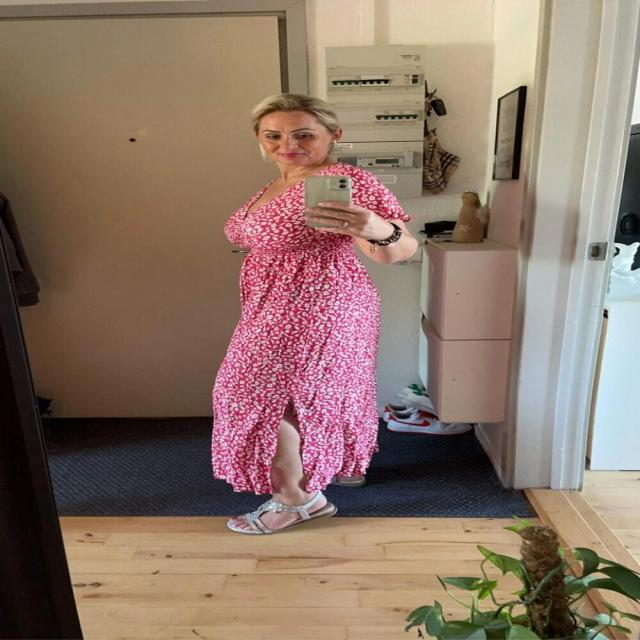clothes: (162, 155, 427, 508)
